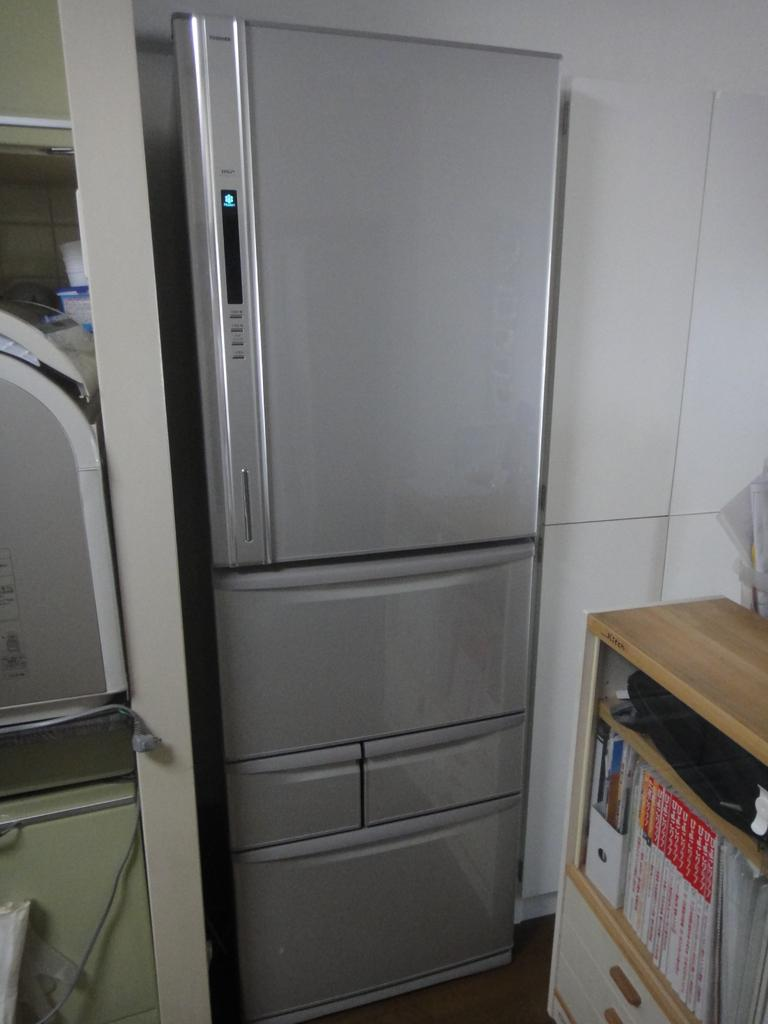cabinet_door: (570, 92, 670, 522), (707, 112, 768, 498)
handle: (232, 42, 273, 516), (192, 26, 230, 485), (240, 558, 498, 612), (268, 828, 479, 858), (359, 741, 498, 765), (244, 762, 362, 790), (605, 958, 640, 1010), (603, 998, 623, 1024)
